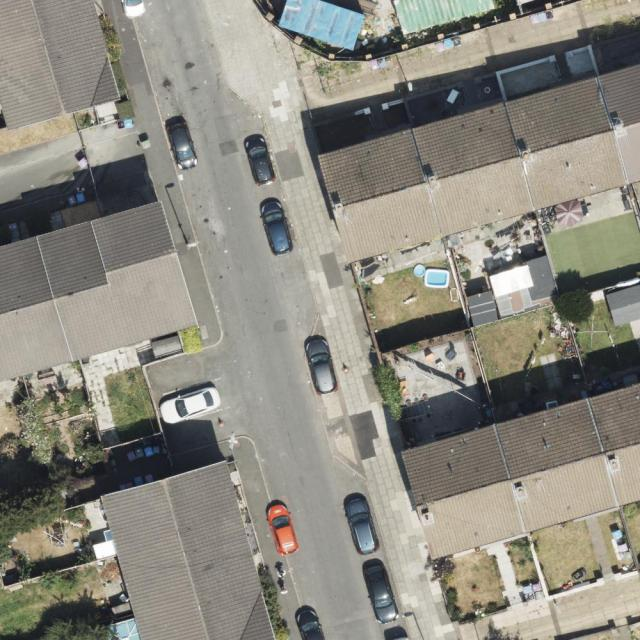roof: (315, 64, 640, 266), (401, 382, 640, 561), (0, 200, 197, 380), (100, 460, 278, 640), (0, 0, 119, 130)
